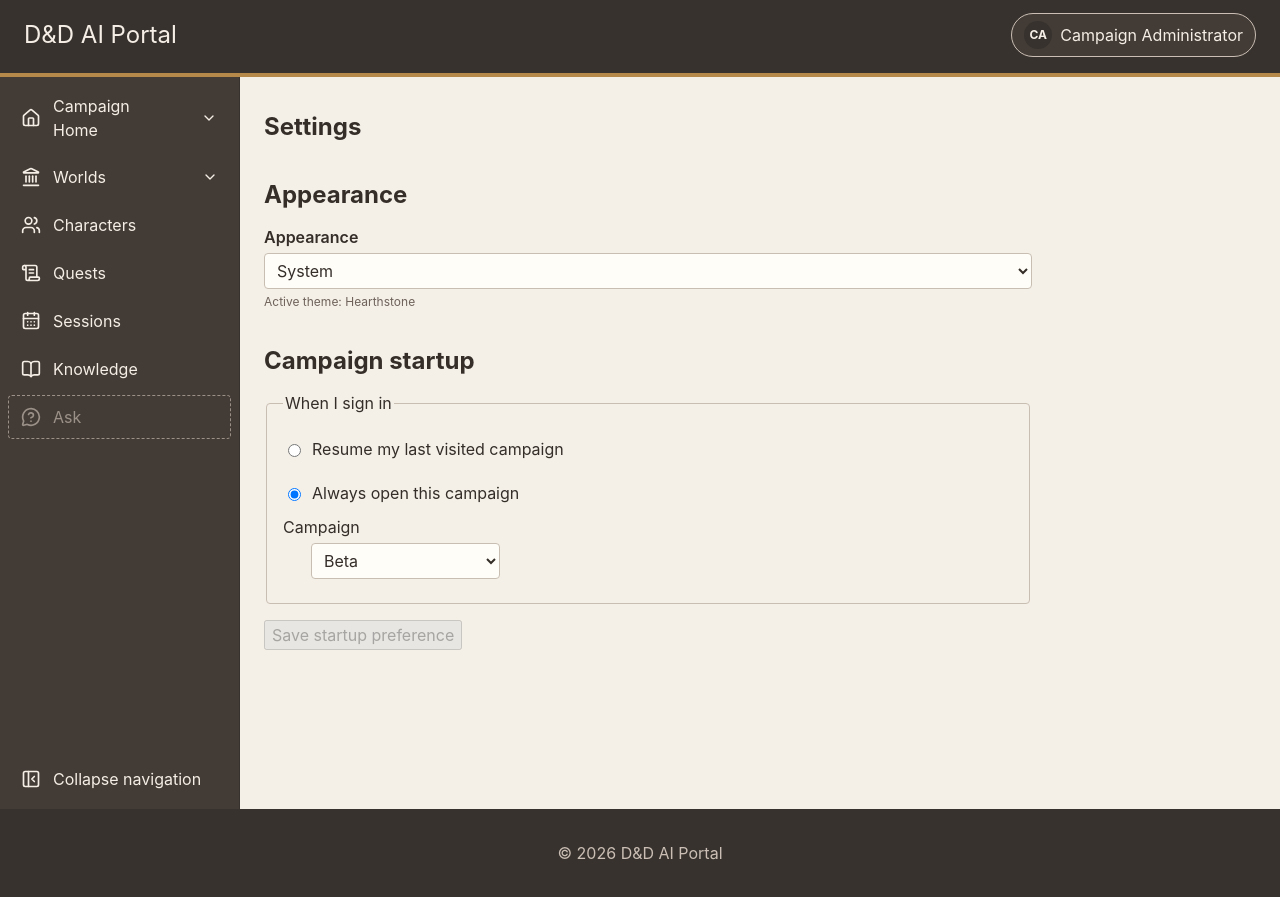
it: saved startup preference reaches the shared session › uses the resume/last-visited behavior from /home after clearing the fixed campaign
Expected: the heading "Settings" is shown, [264,112,361,141]
Expected: the radio button labelled "Always open this campaign" is checked, [288,488,301,501]
Click the radio button labelled "Resume my last visited campaign" at (294, 450), box [288,444,301,457]
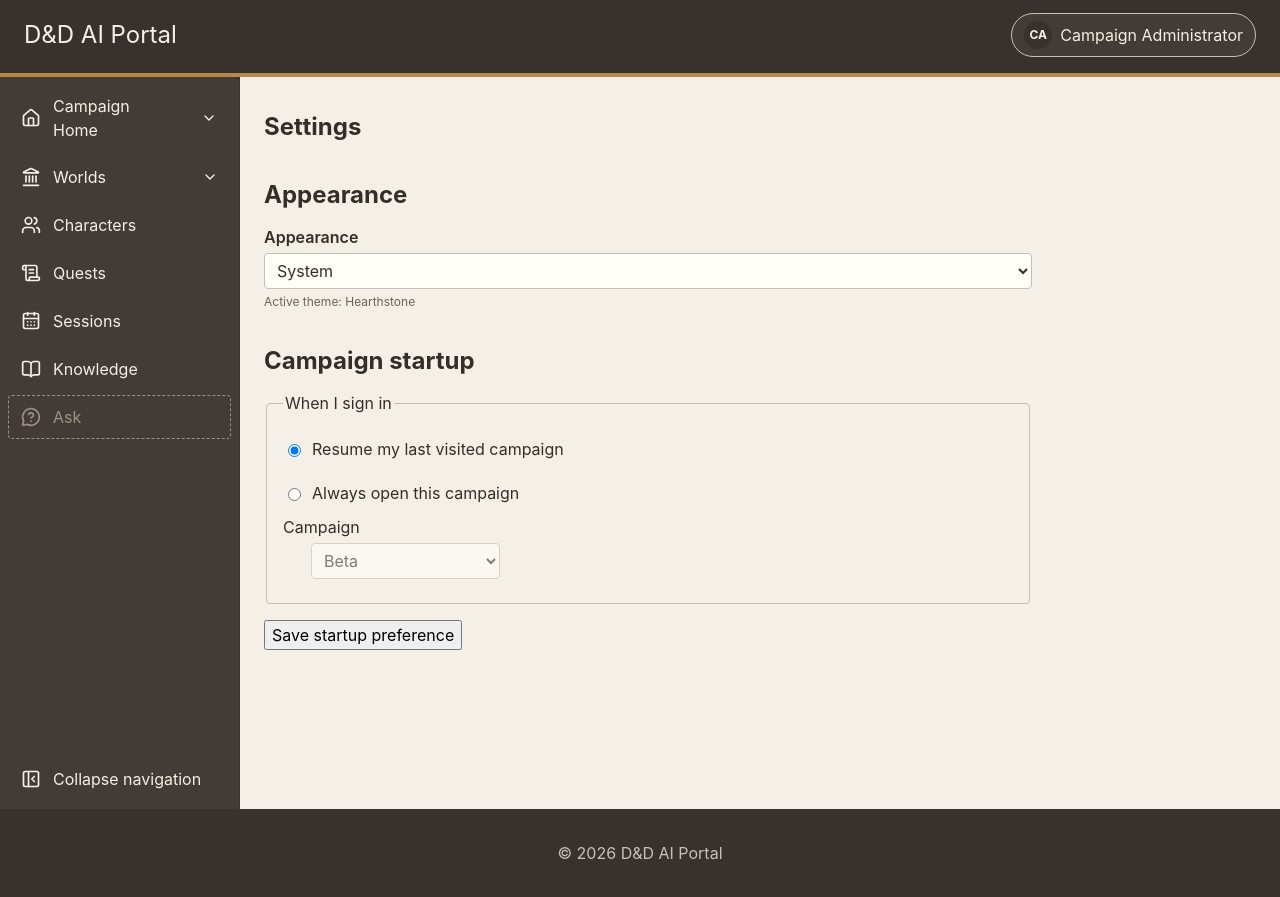
Click the button "Save startup preference" at (363, 635), box [264,620,462,650]
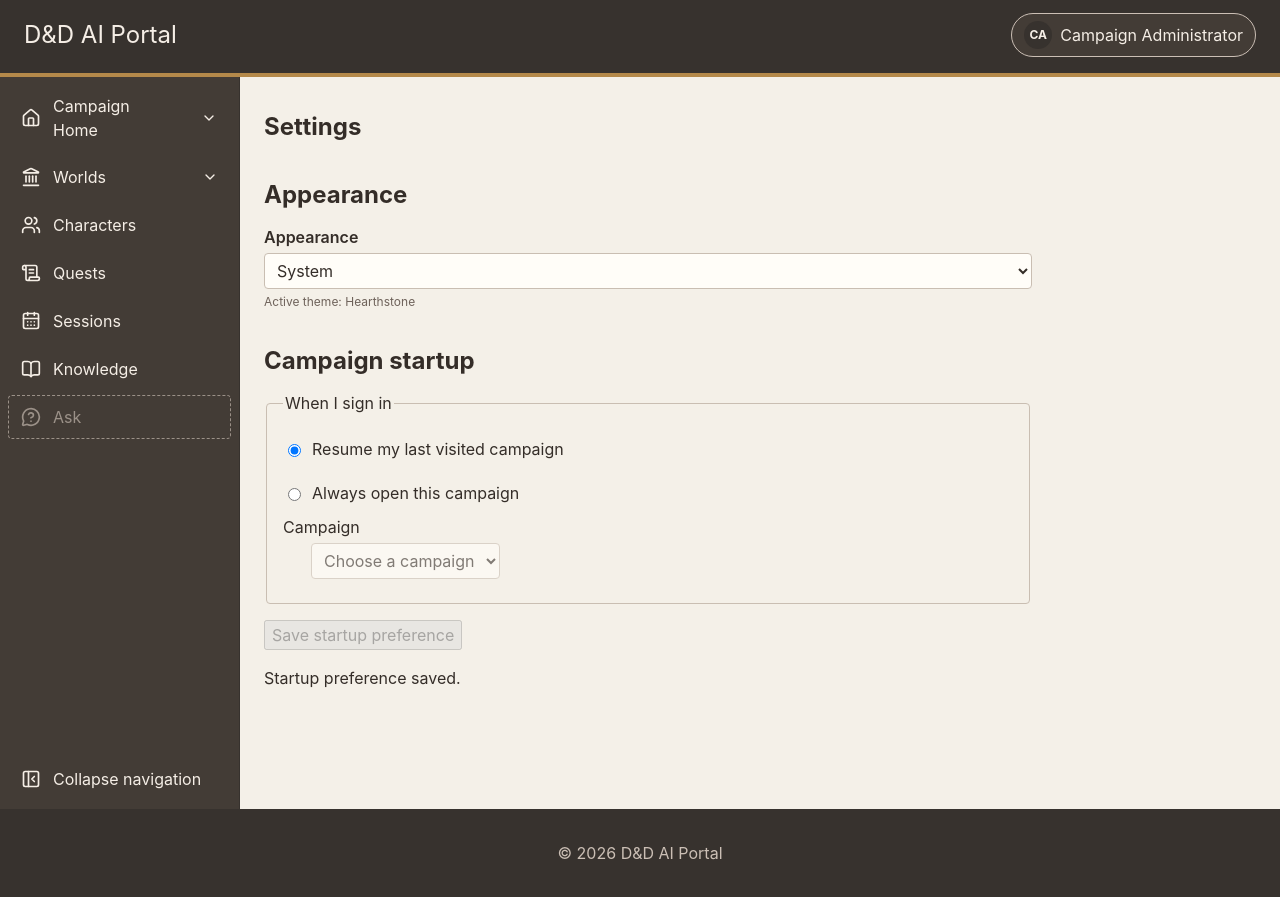
Expected: the message reads "Startup preference saved.", [264,668,461,688]
Click the link "D&D AI Portal" at (100, 35), box [24,17,177,53]
(page scrolled)
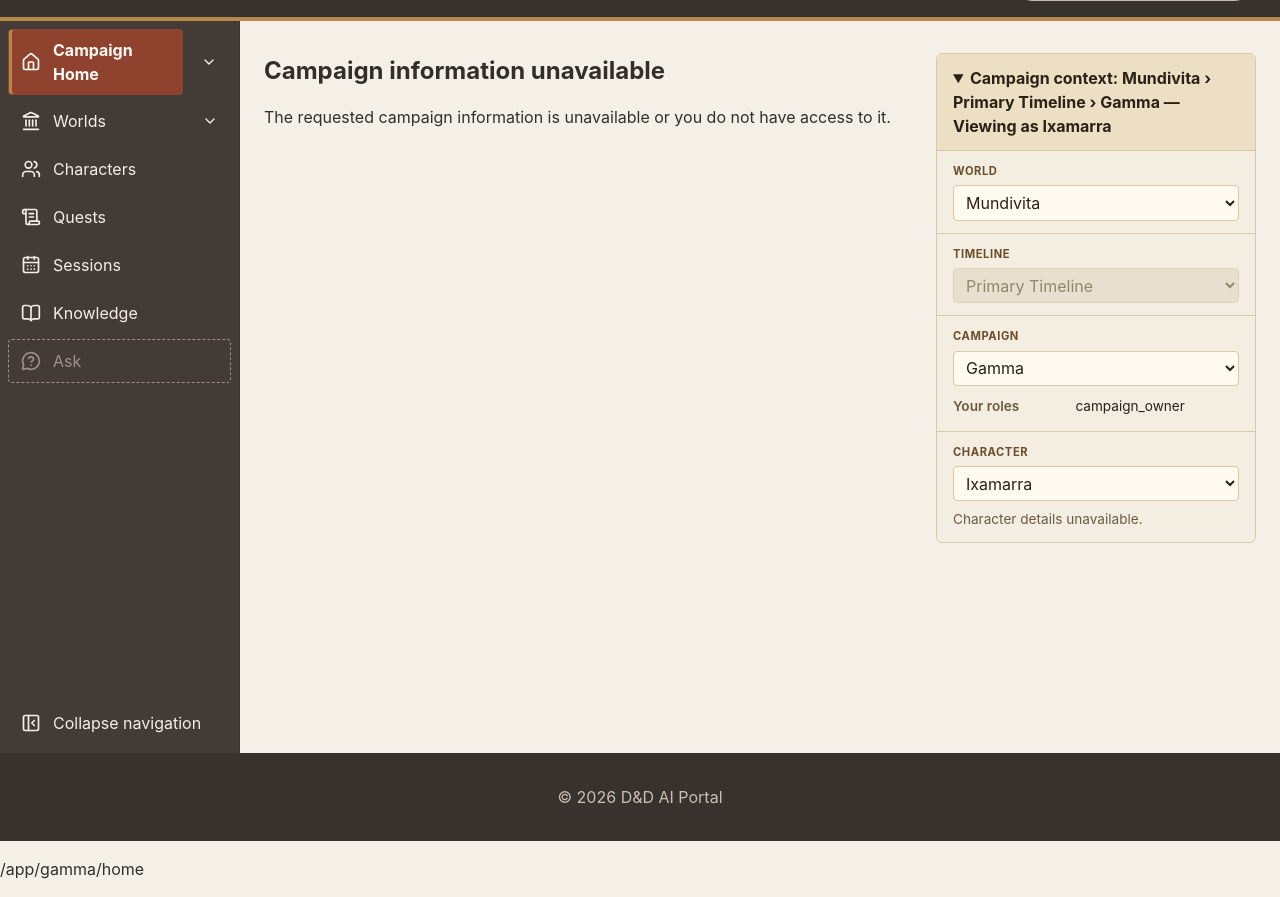
Expected: the text with test id "location" reads "/app/gamma/home", [0,859,144,879]
